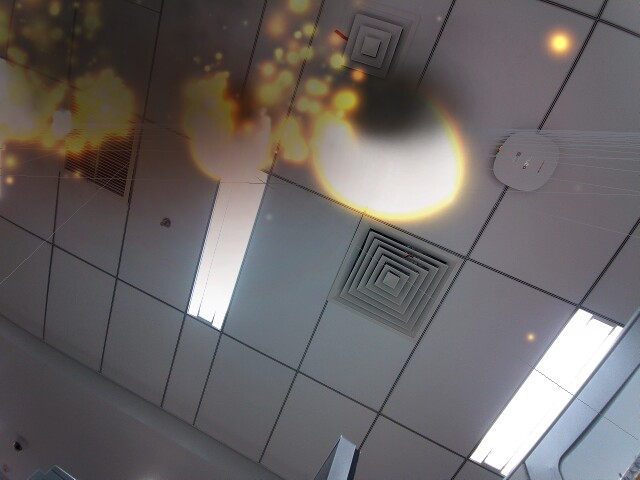fire: (311, 76, 468, 227), (193, 102, 278, 190), (0, 67, 51, 146)
